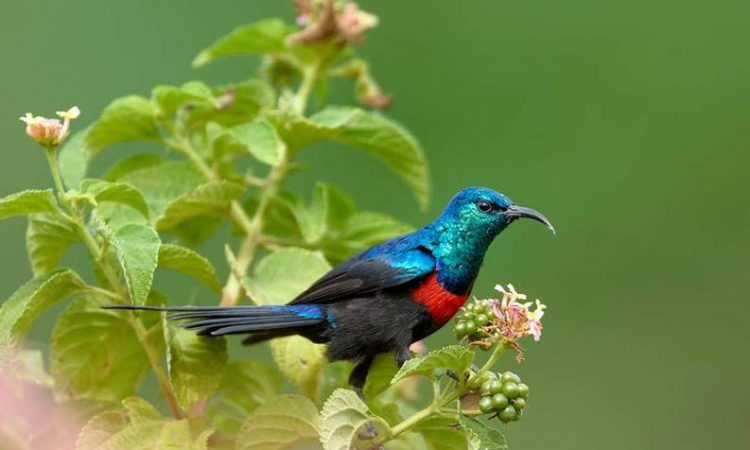bird: (85, 180, 562, 415)
